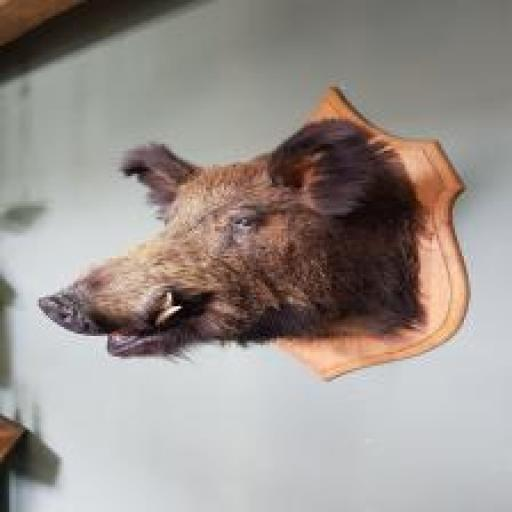Pig: (37, 119, 432, 362)
